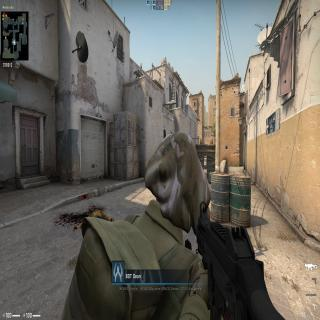CT-Head: (145, 130, 212, 231)
